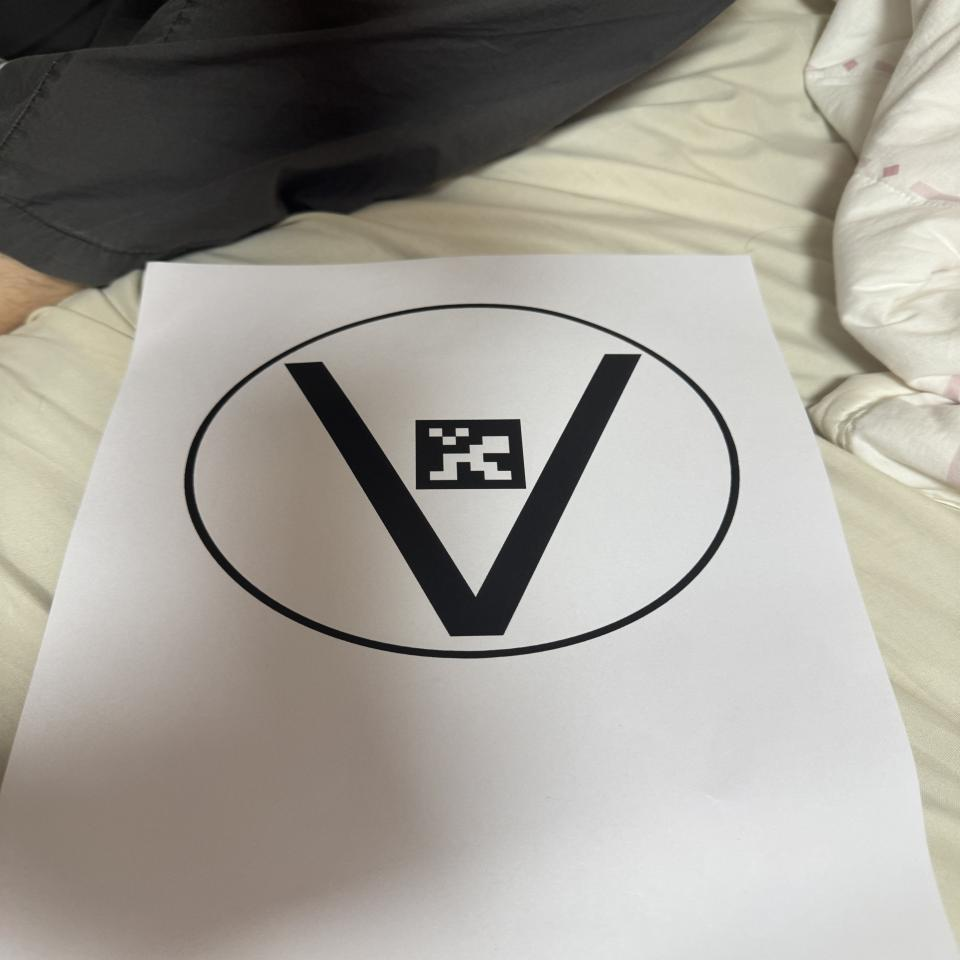vertiport: (157, 293, 763, 673)
